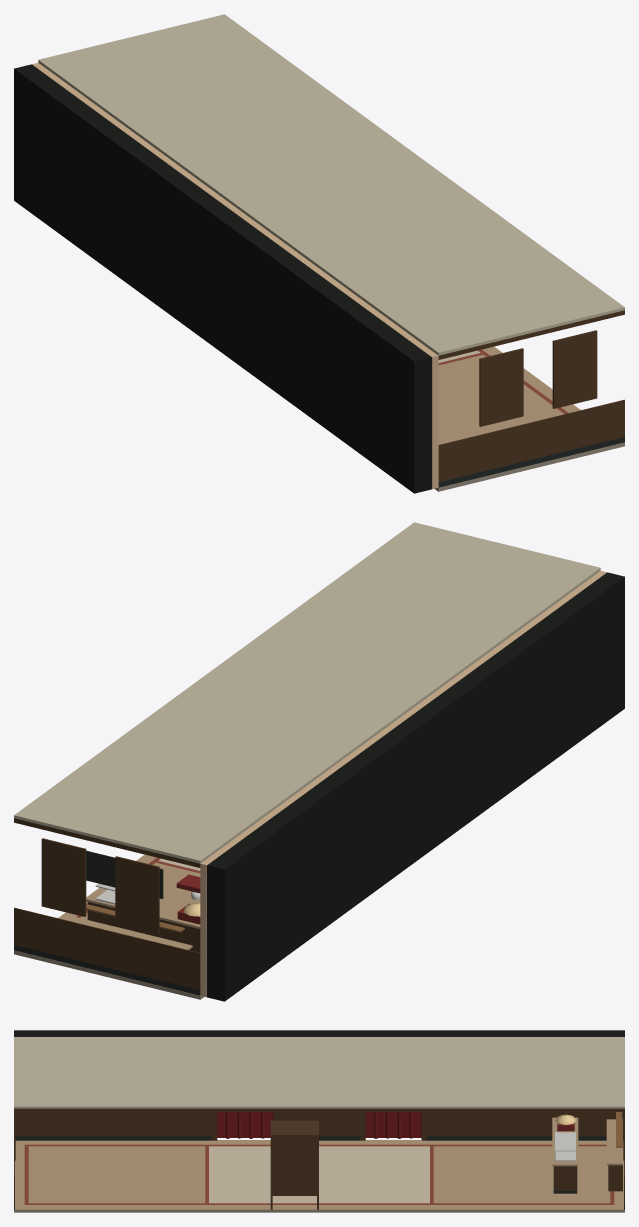
Rendered from SM_Town_Cinema_Interior_LOD2.fbx.
3 views of the same model, one above another, from view 1: azimuth 30°, elevation 25°; view 2: azimuth 150°, elevation 25°; view 3: azimuth 270°, elevation 25° (orthographic). The views are drawn at different scales.
Parts seen in each view (by area): view 1: SM_Town_Cinema_Interior_LOD2; view 2: SM_Town_Cinema_Interior_LOD2; view 3: SM_Town_Cinema_Interior_LOD2.
Part boxes in pixels (x1,y1,x2,y2): SM_Town_Cinema_Interior_LOD2: [14, 14, 624, 493]; SM_Town_Cinema_Interior_LOD2: [14, 522, 624, 1001]; SM_Town_Cinema_Interior_LOD2: [14, 1030, 624, 1212].
Size of the model in its own units: 6.01 by 19.78 by 3.79.
